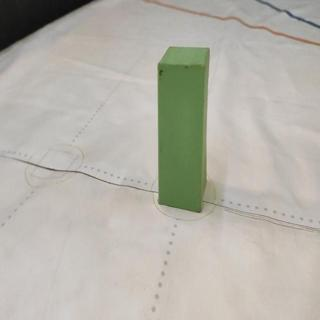greenbox: (156, 45, 211, 214)
